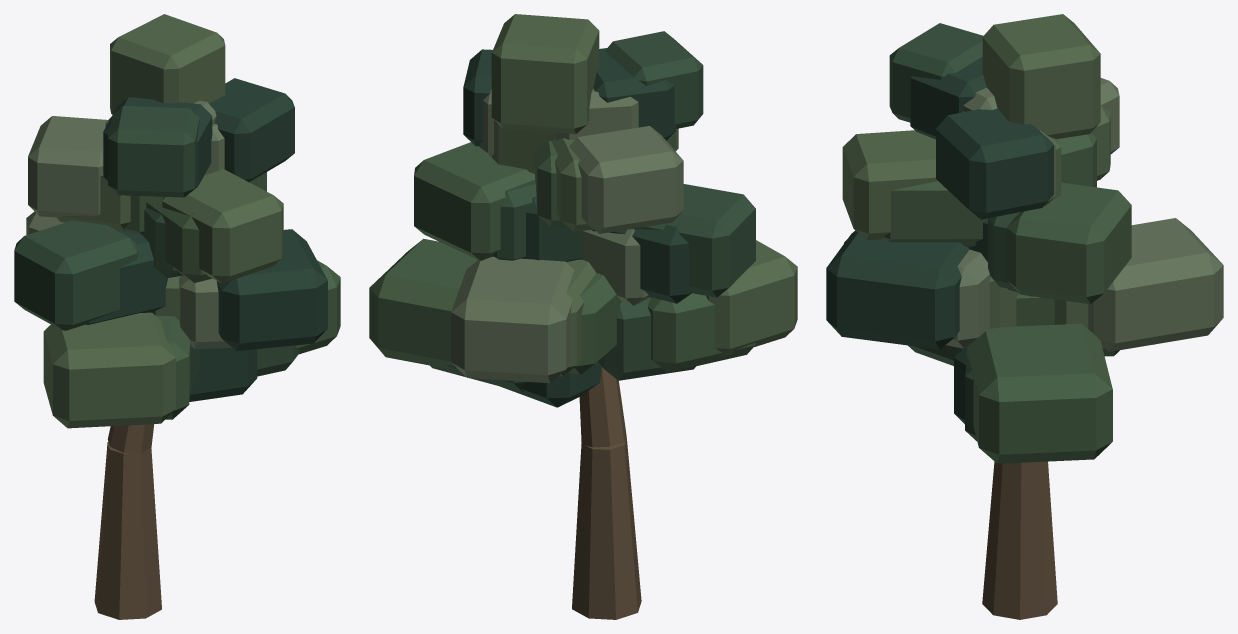
File: juniper_ancient_picked.glb
3 views of the same model, side by side, from view 1: azimuth 30°, elevation 25°; view 2: azimuth 150°, elevation 25°; view 3: azimuth 270°, elevation 25° (orthographic). The views are drawn at different scales.
Visible parts, largest first — view 1: juniper_ancient_picked; view 2: juniper_ancient_picked; view 3: juniper_ancient_picked.
Part boxes in pixels (<box>): juniper_ancient_picked: <box>14,14,340,619</box>; juniper_ancient_picked: <box>369,14,797,619</box>; juniper_ancient_picked: <box>826,14,1223,619</box>.
Size of the model in its own units: 10.07 by 16 by 9.68.
